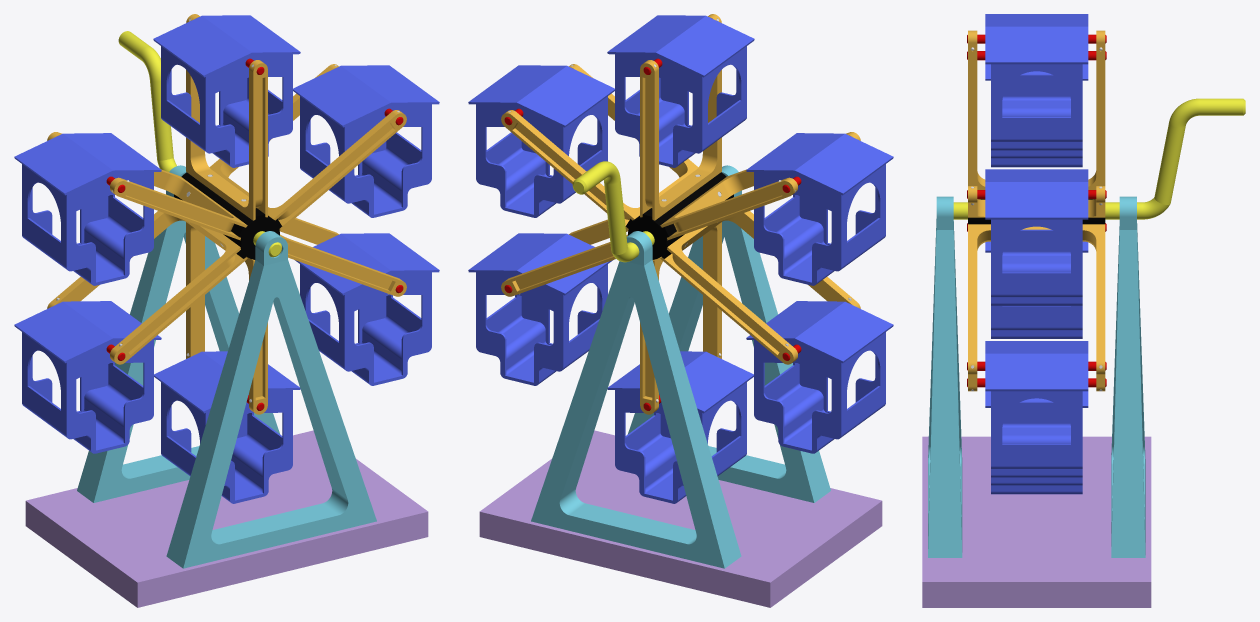
Rendered from fery glb.glb.
The picture shows the model from 3 angles, left to right: view 1: azimuth 30°, elevation 25°; view 2: azimuth 150°, elevation 25°; view 3: azimuth 270°, elevation 25°; orthographic projection. The views are drawn at different scales.
Parts seen in each view (by area): view 1: Grundplatte, Stütze_3, Gondel_12, Gondel_10, Gondel_4, Gondel_2, Gondel_6, Gondel_8, Stütze, Gondelarm_9, Gondelarm, Gondelarm_7 (+5 smaller); view 2: Grundplatte, Stütze, Gondel_12, Gondel_10, Gondel_2, Gondel_4, Gondel_6, Gondel_8, Stütze_3, Gondelarm_9, Gondelarm, Gondelarm_11 (+5 smaller); view 3: Grundplatte, Gondel_4, Gondel_6, Gondel_2, Stütze, Stütze_3, Kurbel, Gondelarm_5, Gondelarm_9, Gondel_10, Gondel_12, Gondel_8 (+1 smaller).
Part boxes in pixels (x1,y1,x2,y2): Grundplatte: (25,430,428,607); Stütze_3: (166,231,376,568); Gondel_12: (14,133,161,285); Gondel_10: (14,301,161,453); Gondel_4: (293,65,439,217); Gondel_2: (153,15,300,167); Gondel_6: (295,233,439,385); Gondel_8: (154,351,300,503); Stütze: (77,165,279,502); Gondelarm_9: (186,14,267,220); Gondelarm: (47,211,247,364); Gondelarm_7: (209,64,406,230); Grundplatte: (479,430,882,607); Stütze: (531,231,741,568); Gondel_12: (746,133,893,285); Gondel_10: (746,301,893,453); Gondel_2: (607,15,754,167); Gondel_4: (468,65,614,217); Gondel_6: (468,233,612,385); Gondel_8: (607,351,753,503); Stütze_3: (628,165,830,502); Gondelarm_9: (640,14,721,220); Gondelarm: (660,211,860,364); Gondelarm_11: (660,132,860,240); Grundplatte: (922,436,1151,607); Gondel_4: (985,169,1088,305); Gondel_6: (985,341,1088,477); Gondel_2: (985,14,1088,150); Stütze: (1111,196,1145,557); Stütze_3: (928,196,962,557); Kurbel: (953,98,1245,219); Gondelarm_5: (968,224,1105,374); Gondelarm_9: (968,30,1105,189); Gondel_10: (985,241,1088,338); Gondel_12: (985,64,1088,167); Gondel_8: (985,391,1088,494).
Size of the model in its own units: 0.3867 by 0.49 by 0.2825.
